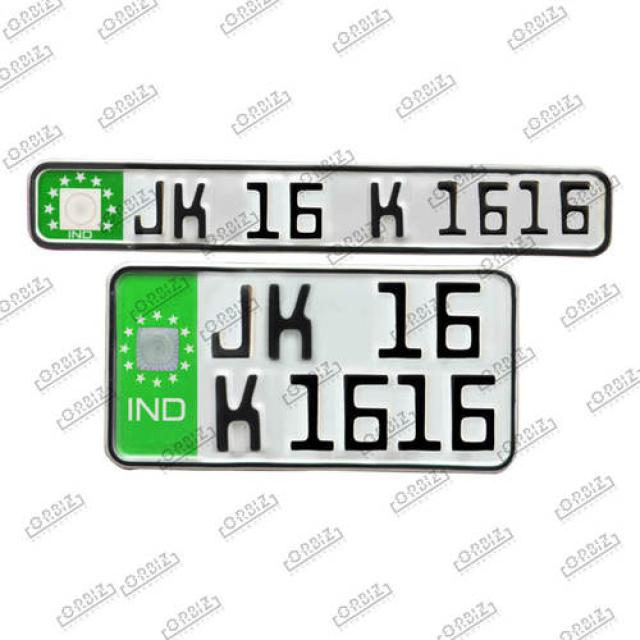plate: (104, 263, 522, 477), (28, 163, 614, 255)
